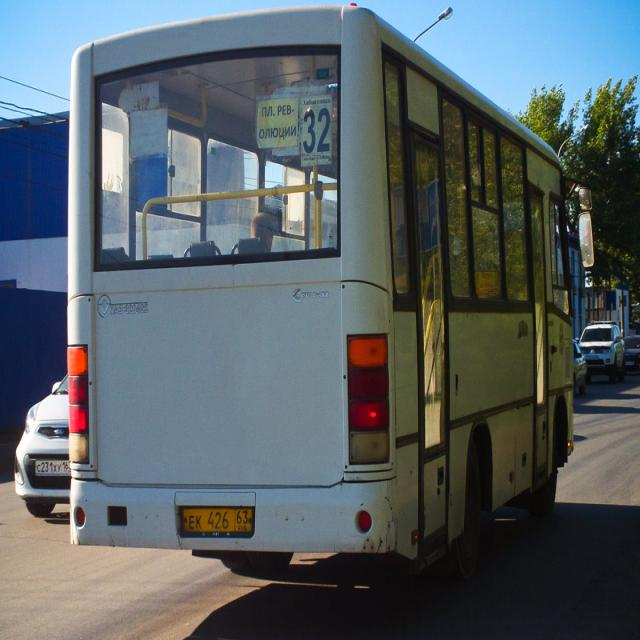number-of-bus: (303, 109, 333, 153)
